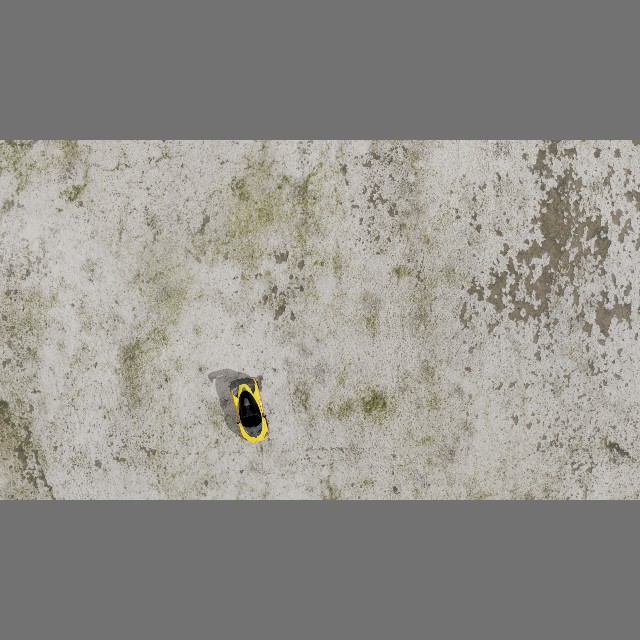car: (226, 374, 273, 448)
